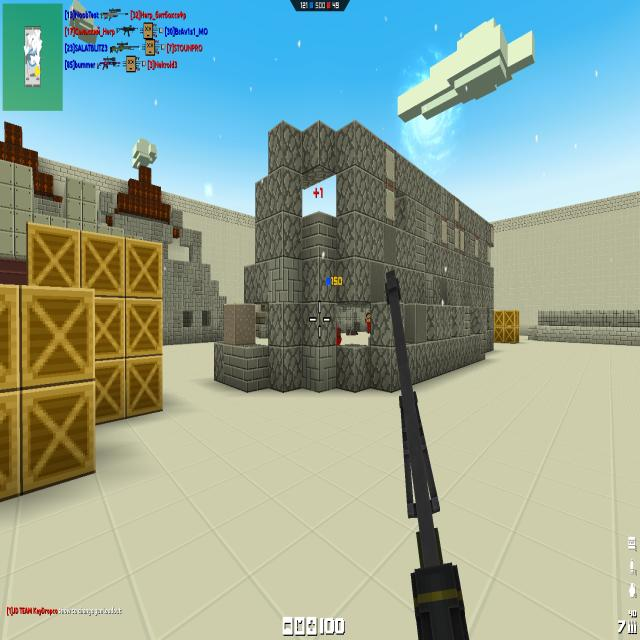player: (365, 312, 371, 334), (336, 327, 342, 346)
